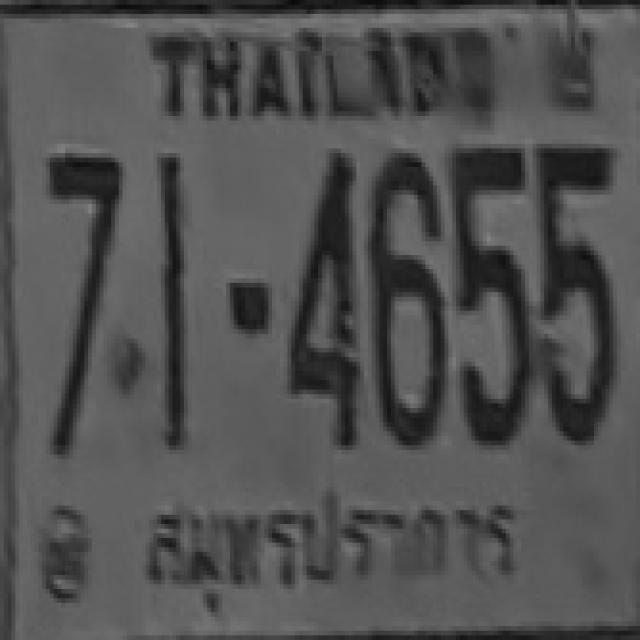4: (288, 148, 357, 440)
5: (535, 141, 611, 313)
7: (46, 153, 119, 348)
SamutPrakan: (126, 480, 537, 603)
